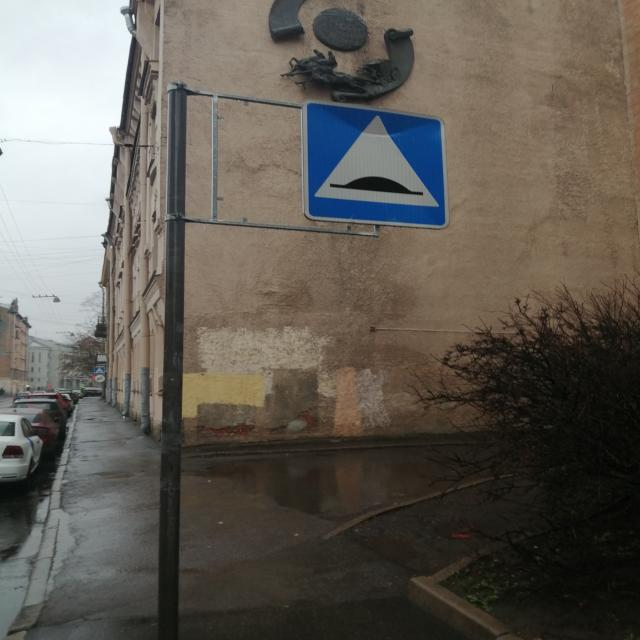road sign: (306, 103, 447, 230)
